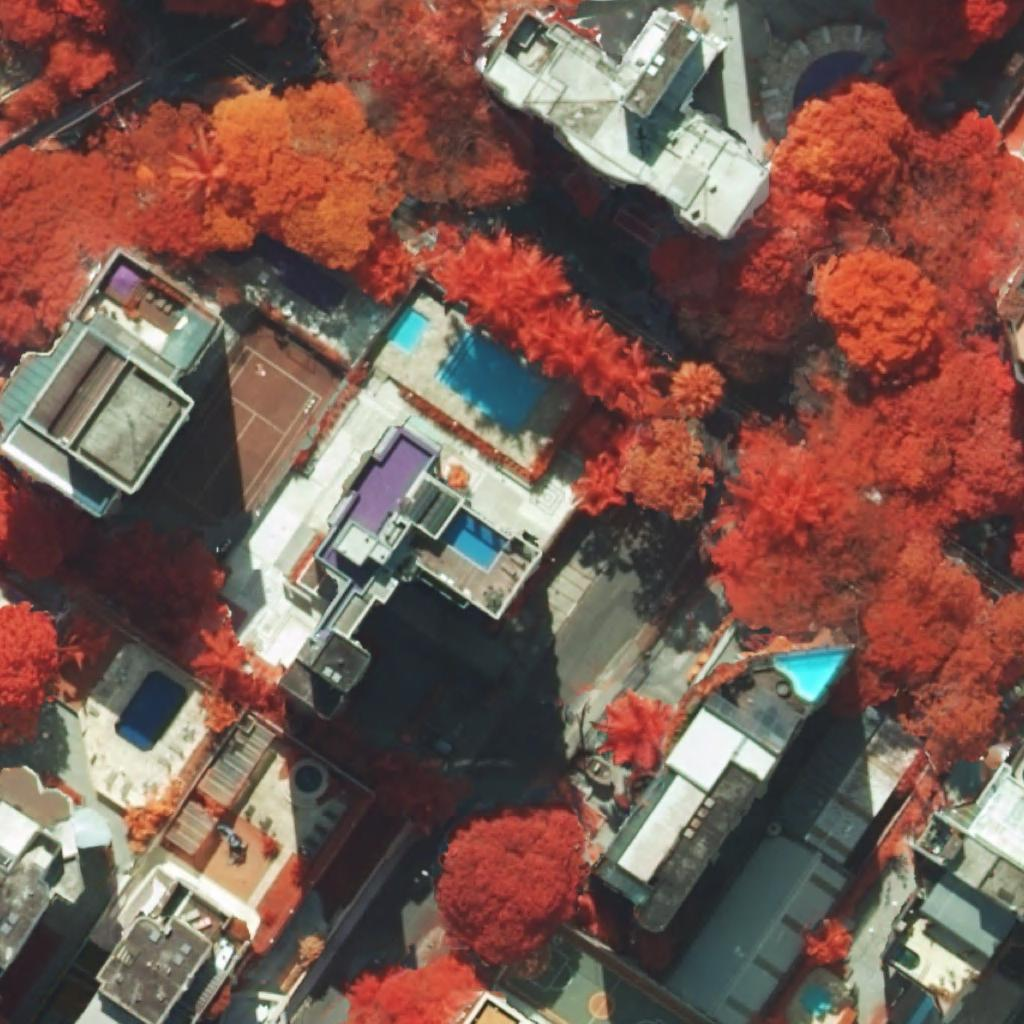pool: (434, 330, 551, 434), (346, 433, 432, 537), (114, 670, 189, 752), (439, 505, 508, 570), (776, 650, 848, 700), (386, 306, 429, 353), (801, 982, 832, 1016), (891, 943, 920, 970), (295, 766, 322, 792)
